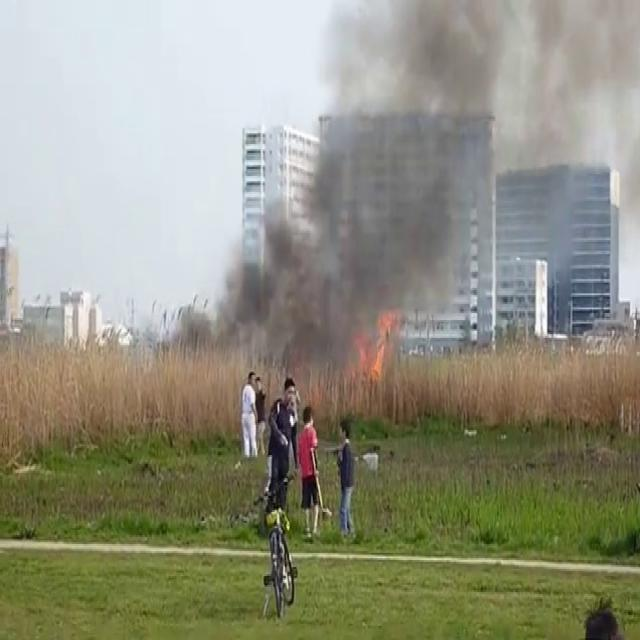Fire: (367, 304, 395, 372)
Smoke: (220, 0, 640, 361)
